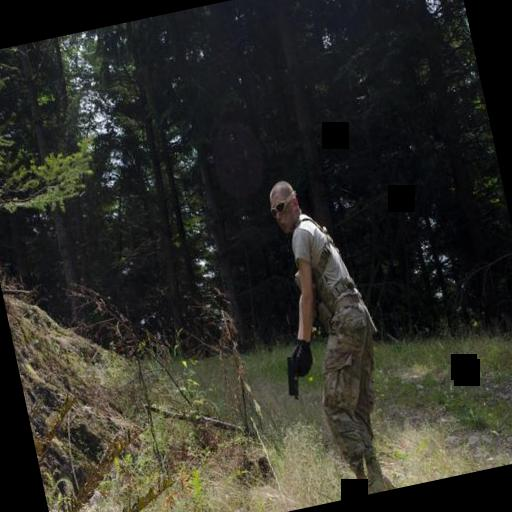Handgun: (276, 346, 312, 402)
